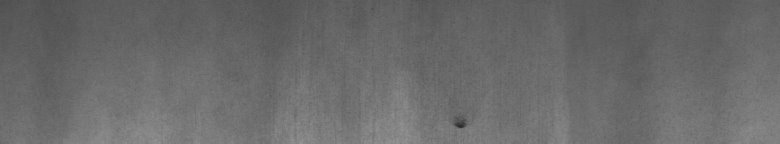fi: (451, 116, 472, 136)
